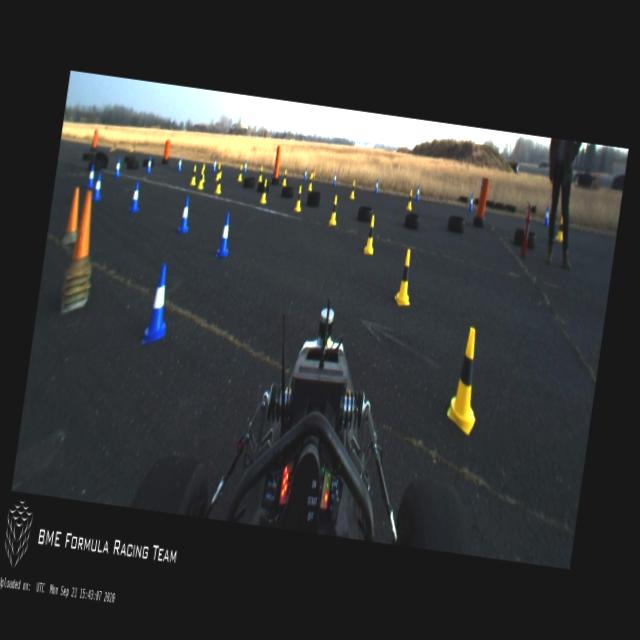blue_cone: (142, 260, 175, 348), (216, 210, 236, 260), (178, 198, 194, 235), (128, 180, 142, 214), (92, 172, 104, 202), (114, 156, 124, 180), (86, 166, 96, 190), (542, 205, 551, 228), (468, 192, 476, 211), (146, 156, 154, 174), (414, 185, 422, 202), (177, 156, 184, 172), (332, 170, 338, 187), (374, 178, 380, 194), (212, 161, 218, 175), (304, 167, 308, 181), (243, 160, 247, 172)
unknown_cone: (60, 188, 103, 312), (61, 186, 83, 245), (90, 130, 99, 152)
yellow_cone: (444, 323, 488, 434), (394, 248, 416, 306), (362, 213, 378, 254), (328, 192, 341, 228), (555, 212, 567, 242), (259, 178, 270, 206), (294, 185, 305, 213), (196, 167, 207, 192), (190, 163, 199, 187), (406, 190, 415, 212), (306, 172, 314, 194), (215, 172, 223, 194), (237, 162, 245, 182), (257, 164, 265, 183), (281, 167, 289, 186), (348, 180, 356, 199)
